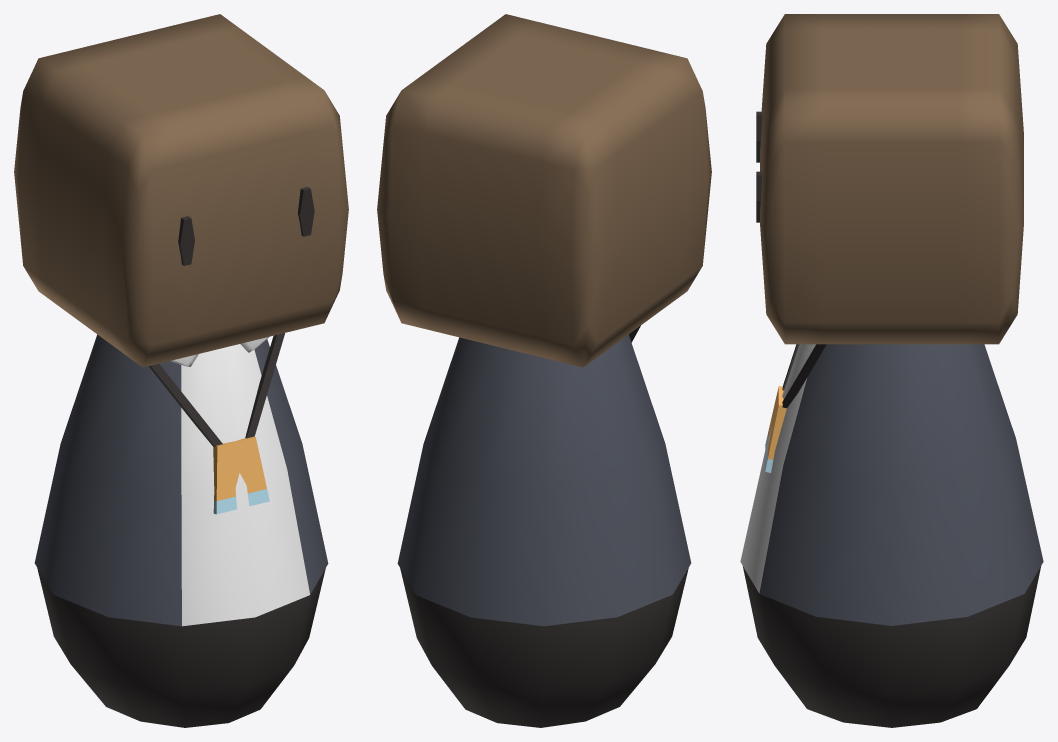
File: SM_character_office_02.fbx
3 renders of one model, left to right at view 1: azimuth 30°, elevation 25°; view 2: azimuth 150°, elevation 25°; view 3: azimuth 270°, elevation 25°, orthographic. The views are drawn at different scales.
Visible parts, largest first — view 1: pCube1, pCylinder12, pCylinder1, pCube8, pCube9, pCylinder29, pCylinder28; view 2: pCube1, pCylinder12, pCylinder1; view 3: pCube1, pCylinder12, pCylinder1, pCube8, pCube9.
Boxes of the visible parts, bbox=[...] form: pCube1: bbox=[14, 14, 348, 367]; pCylinder12: bbox=[34, 334, 328, 626]; pCylinder1: bbox=[37, 568, 325, 727]; pCube8: bbox=[213, 436, 269, 514]; pCube9: bbox=[148, 333, 284, 447]; pCylinder29: bbox=[178, 216, 194, 265]; pCylinder28: bbox=[298, 187, 314, 236]; pCube1: bbox=[377, 14, 711, 367]; pCylinder12: bbox=[397, 334, 691, 626]; pCylinder1: bbox=[400, 568, 688, 727]; pCube1: bbox=[760, 14, 1023, 344]; pCylinder12: bbox=[740, 344, 1043, 625]; pCylinder1: bbox=[743, 566, 1040, 727]; pCube8: bbox=[765, 386, 786, 472]; pCube9: bbox=[782, 344, 826, 408].
Bounding box in the file's own units: 22.45 × 51.36 × 22.38.
